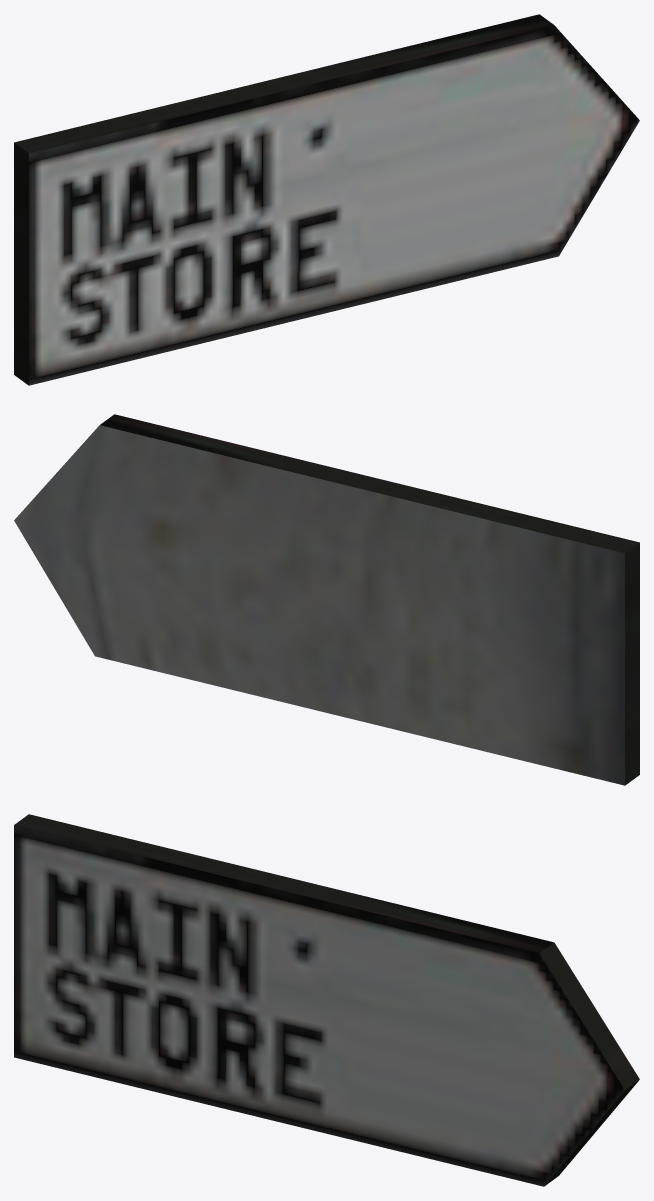
Rendered from Training_Sign12.fbx.
3 renders of one model, top to bottom at view 1: azimuth 30°, elevation 25°; view 2: azimuth 150°, elevation 25°; view 3: azimuth 330°, elevation 25°, orthographic.
Parts seen in each view (by area): view 1: tabula; view 2: tabula; view 3: tabula.
Boxes of the visible parts, bbox=[...] form: tabula: bbox=[14, 14, 639, 385]; tabula: bbox=[14, 414, 639, 785]; tabula: bbox=[14, 814, 639, 1186].
Bounding box in the file's own units: 47.39 × 17.22 × 2.
